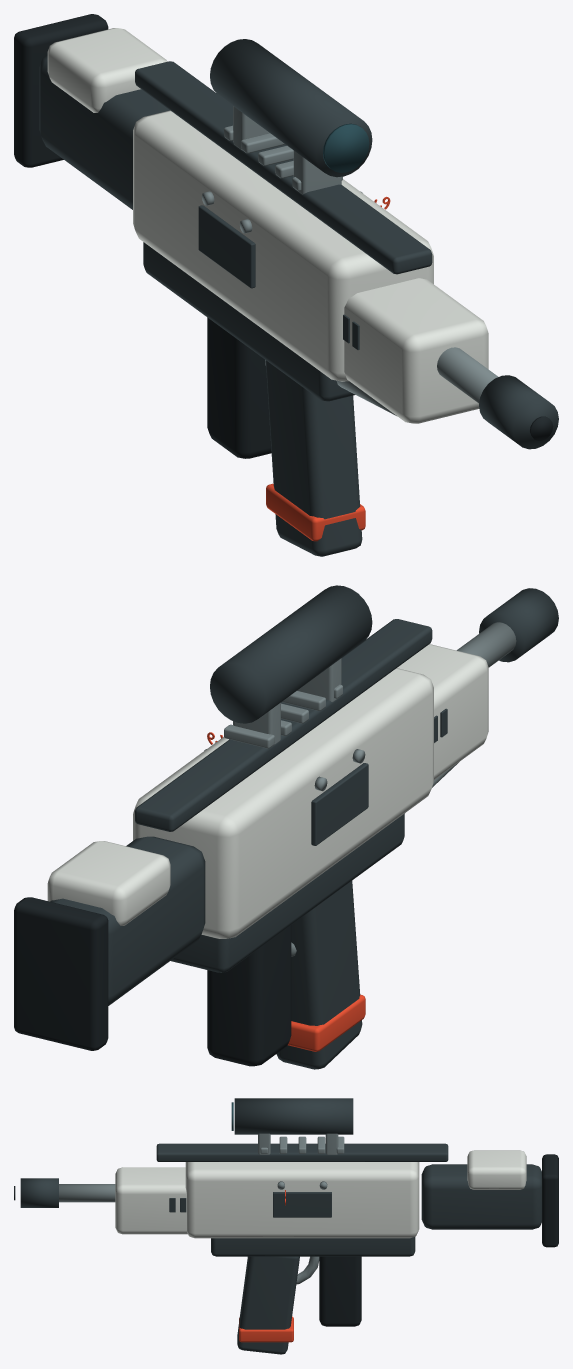
The model's file is longwatch_dmr_standard.glb.
The picture shows the model from 3 angles, top to bottom: view 1: azimuth 30°, elevation 25°; view 2: azimuth 150°, elevation 25°; view 3: azimuth 270°, elevation 25°; orthographic projection. The views are drawn at different scales.
Visible parts, largest first — view 1: longwatch_dmr_standard; view 2: longwatch_dmr_standard; view 3: longwatch_dmr_standard.
Part boxes in pixels (x1,y1,x2,y2): longwatch_dmr_standard: (14, 14, 558, 556); longwatch_dmr_standard: (14, 585, 558, 1069); longwatch_dmr_standard: (14, 1098, 558, 1354).
Bounding box in the file's own units: 0.2294 × 0.6525 × 1.29.
